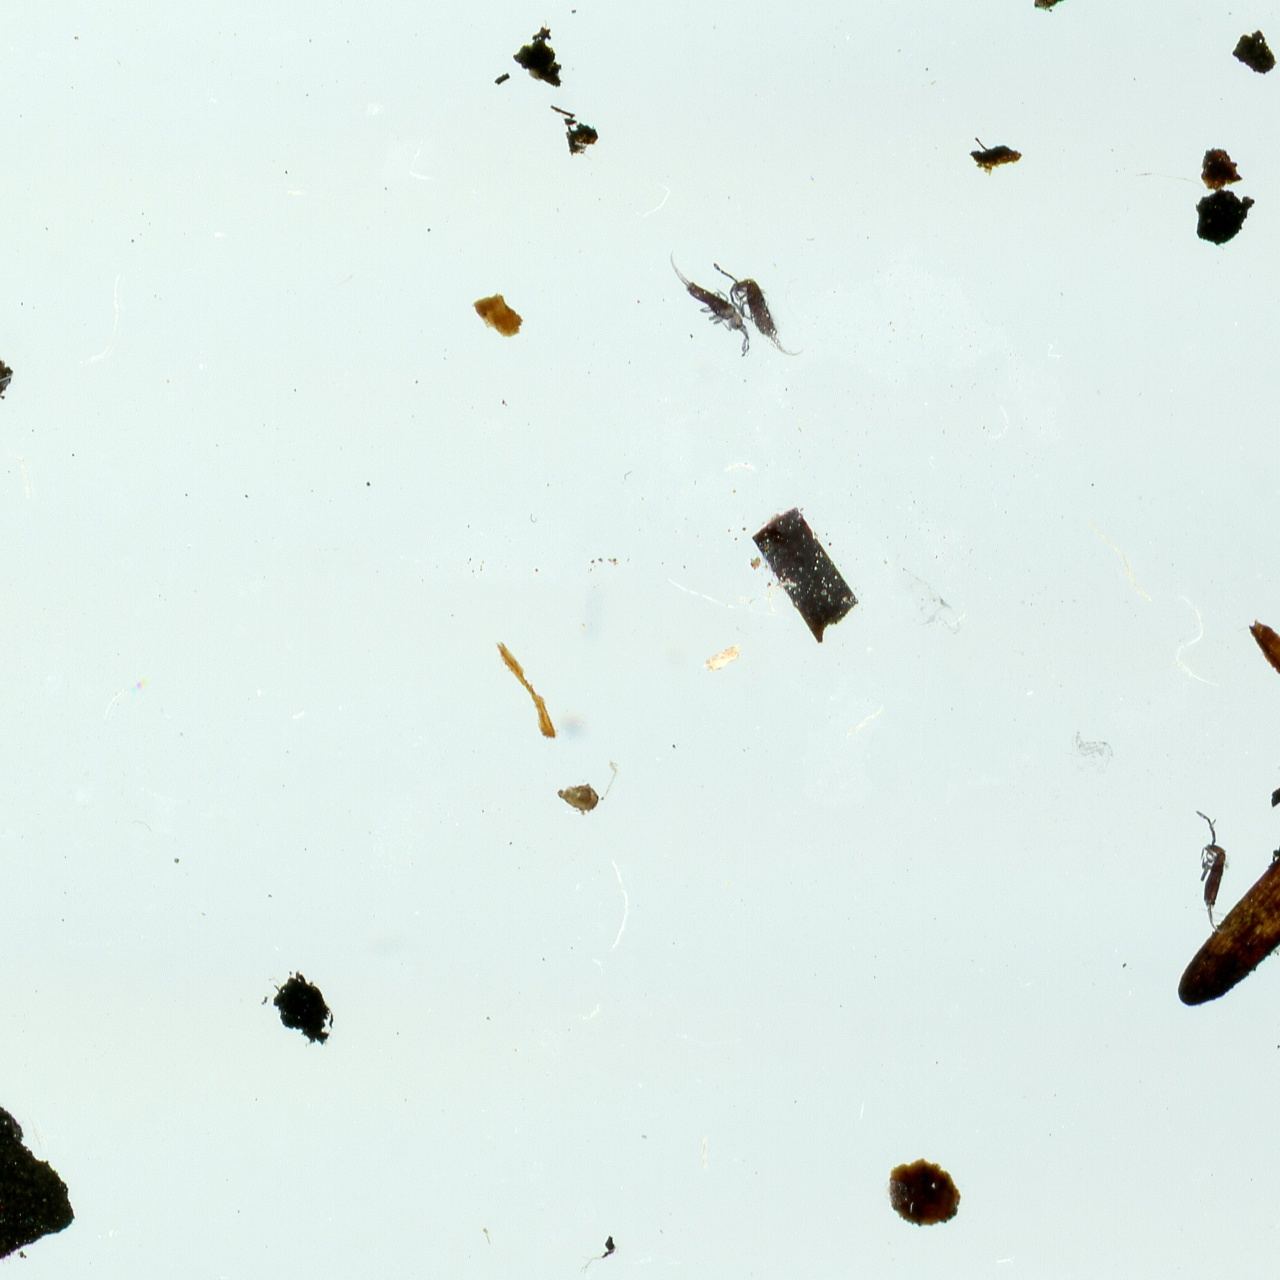arthropod: (649, 225, 767, 376), (706, 240, 815, 380), (1186, 797, 1237, 933)
